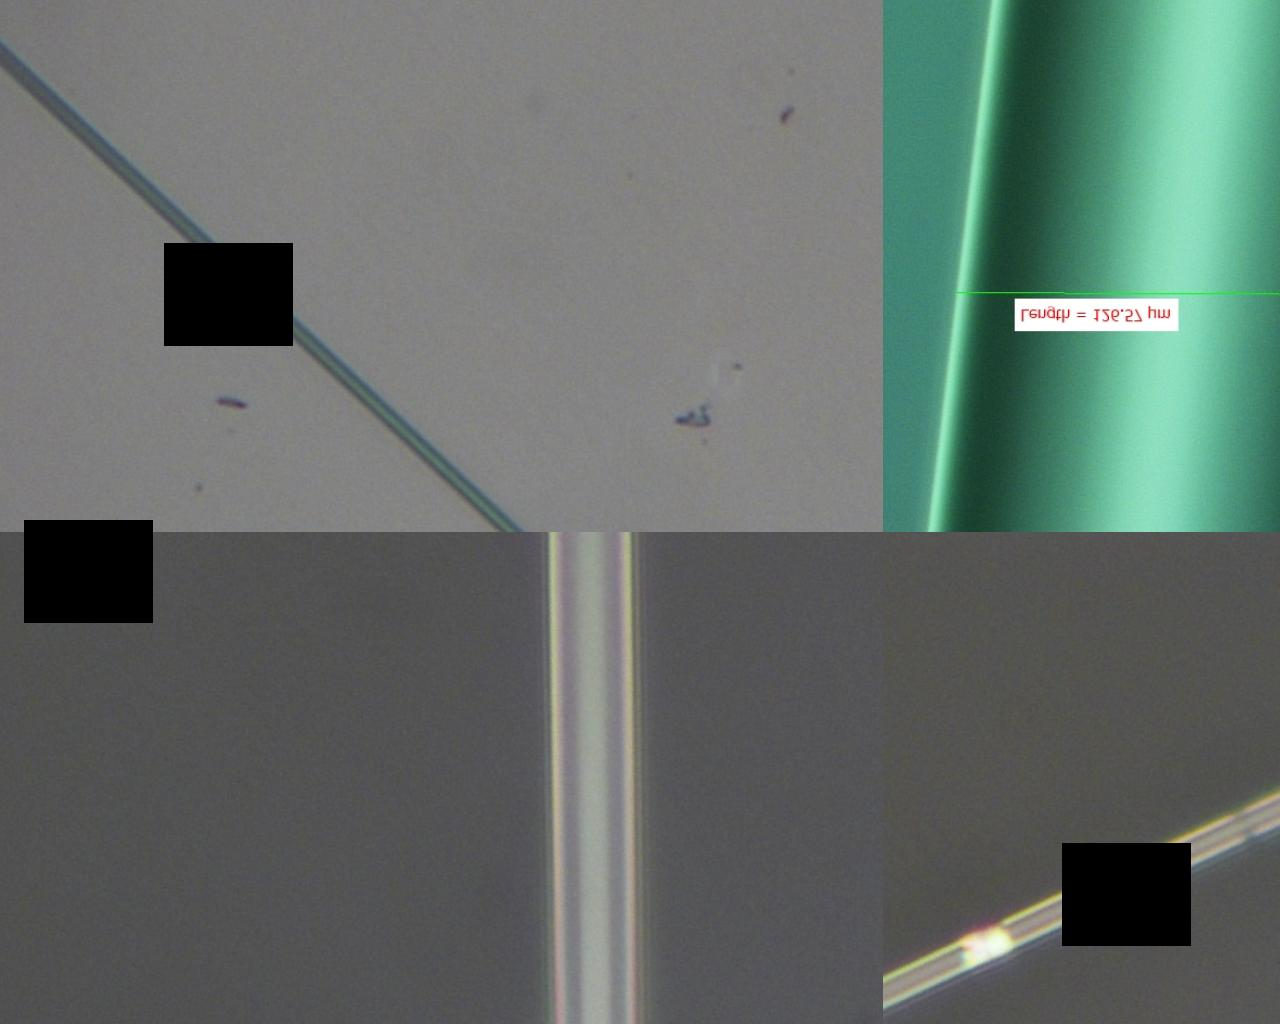fiber: (0, 43, 525, 532), (925, 0, 1280, 532), (883, 790, 1280, 1008), (545, 532, 641, 1024)
